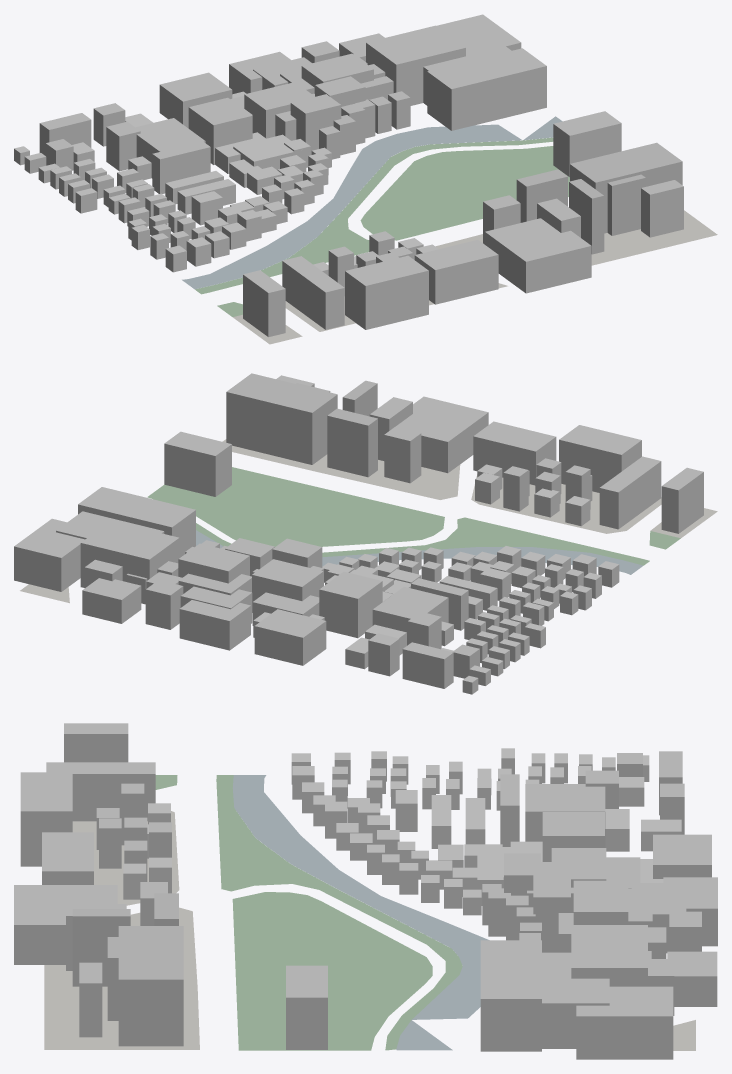
Rendered from 107_101_mid.glb.
3 views of the same model, one above another, from view 1: azimuth 30°, elevation 25°; view 2: azimuth 150°, elevation 25°; view 3: azimuth 270°, elevation 25° (orthographic). The views are drawn at different scales.
Bounding box in the file's own units: 525 × 60.6 × 540.
